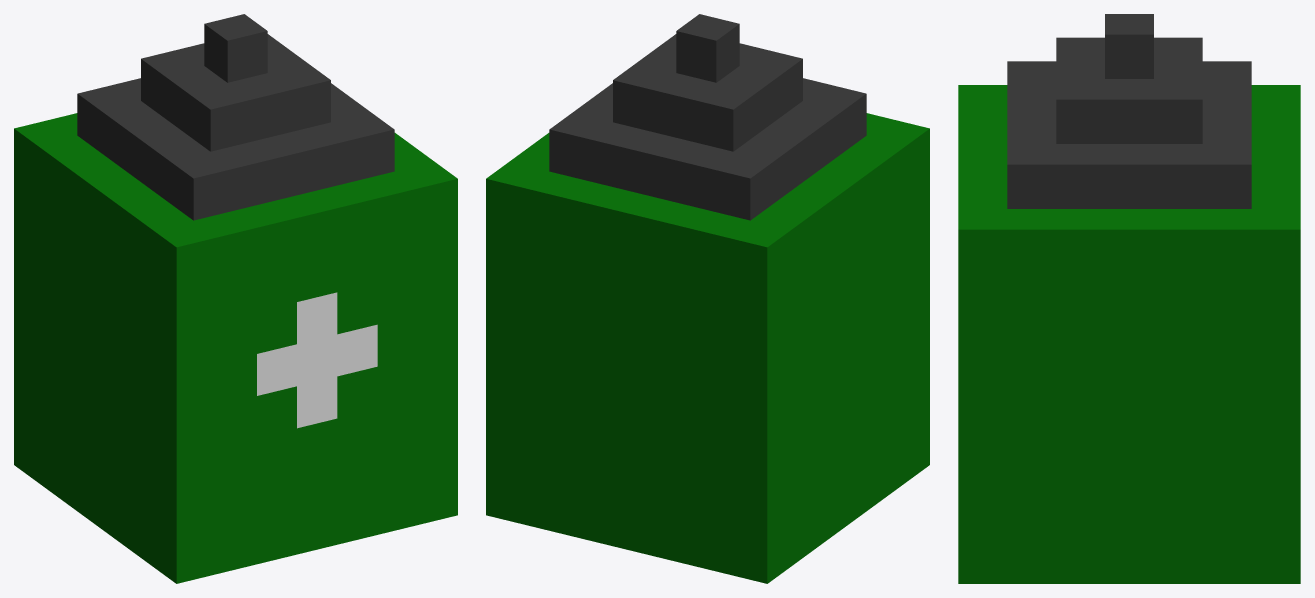
Rendered from FirstAidMed.obj.
3 views of the same model, side by side, from view 1: azimuth 30°, elevation 25°; view 2: azimuth 150°, elevation 25°; view 3: azimuth 270°, elevation 25° (orthographic). The views are drawn at different scales.
Size of the model in its own units: 0.7 by 1.1 by 0.7.
Materials: 1 (1 with a texture image).
